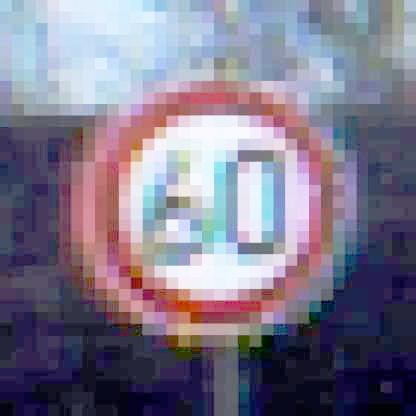Speed Limit -60-: (70, 77, 360, 342)
